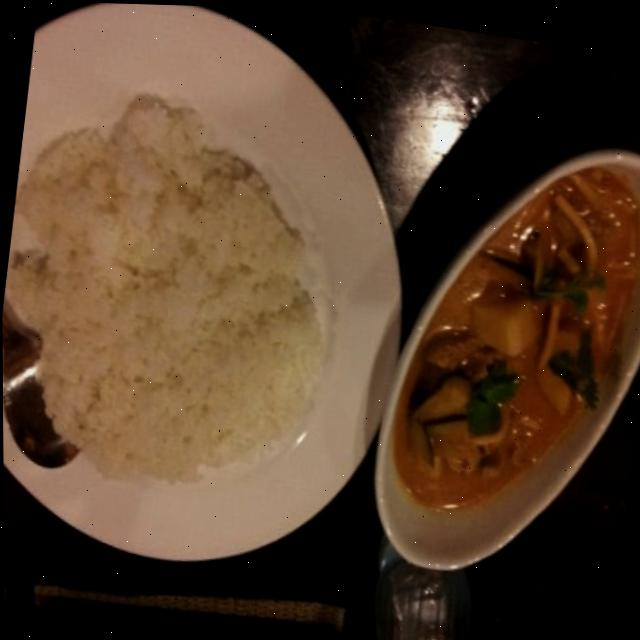米饭主食: (0, 0, 446, 608)
